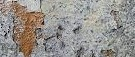Corrosion: (1, 1, 46, 57)
